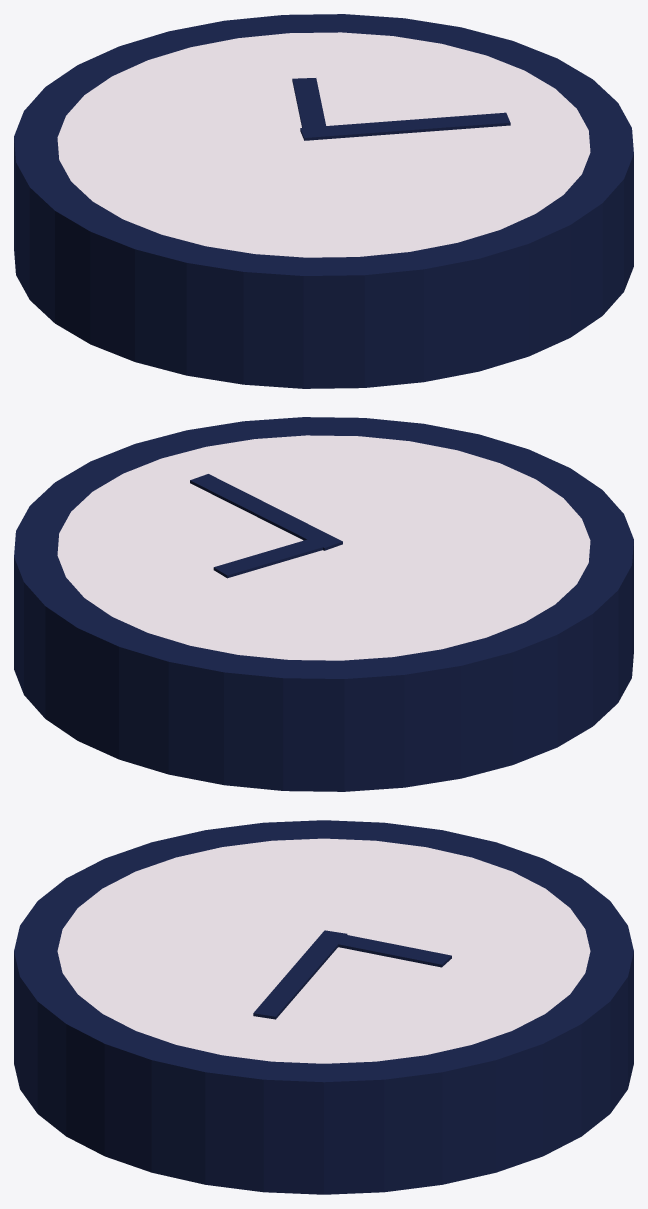
File: clock.fbx
The picture shows the model from 3 angles, top to bottom: view 1: azimuth 30°, elevation 25°; view 2: azimuth 150°, elevation 25°; view 3: azimuth 270°, elevation 25°; orthographic projection.
Parts seen in each view (by area): view 1: outer, inner, minutes, hours; view 2: outer, inner, minutes, hours; view 3: outer, inner, minutes, hours.
Part boxes in pixels (x1=…): outer: x1=14, y1=14, x2=633, y2=388; inner: x1=57, y1=32, x2=590, y2=257; minutes: x1=300, y1=112, x2=510, y2=140; hours: x1=292, y1=78, x2=327, y2=132; outer: x1=14, y1=417, x2=633, y2=791; inner: x1=57, y1=435, x2=590, y2=660; minutes: x1=190, y1=474, x2=342, y2=550; hours: x1=213, y1=535, x2=338, y2=578; outer: x1=14, y1=820, x2=633, y2=1194; inner: x1=57, y1=838, x2=590, y2=1063; minutes: x1=253, y1=930, x2=347, y2=1019; hours: x1=319, y1=934, x2=451, y2=967.
Size of the model in its own units: 99.81 by 22.04 by 99.81.
